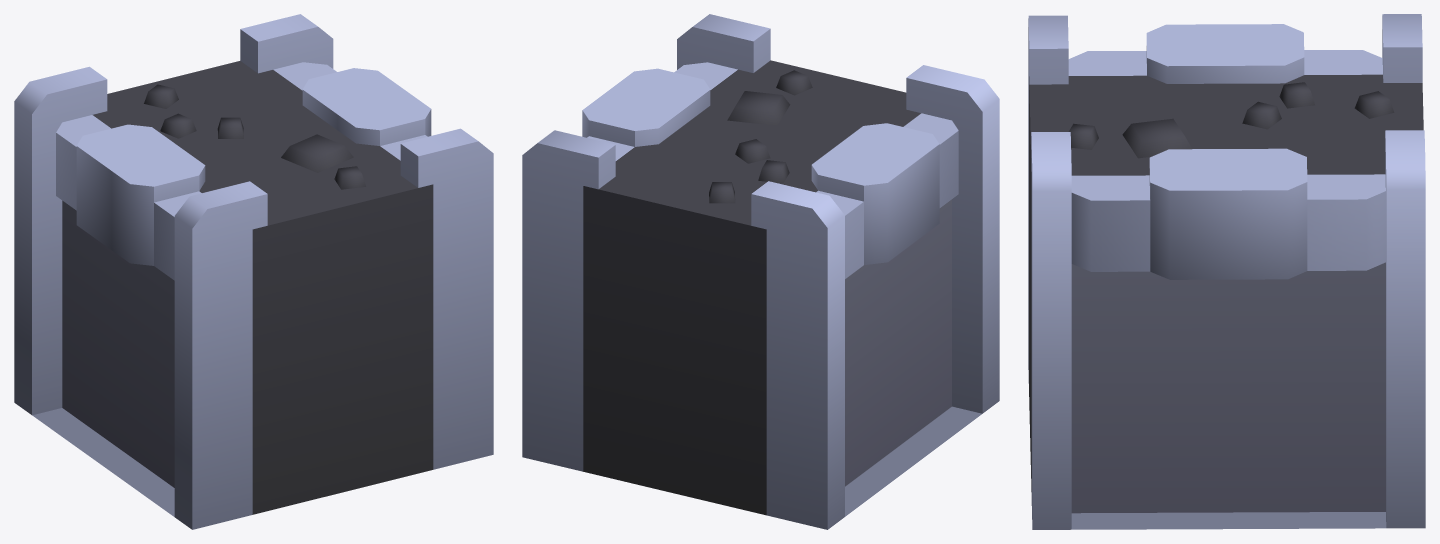
File: wall-narrow.032_lev5.glb
3 renders of one model, left to right at view 1: azimuth 30°, elevation 25°; view 2: azimuth 150°, elevation 25°; view 3: azimuth 270°, elevation 25°, orthographic. The views are drawn at different scales.
Parts seen in each view (by area): view 1: wall-narrow.032_lev5; view 2: wall-narrow.032_lev5; view 3: wall-narrow.032_lev5.
Part boxes in pixels (box(x1,y1,x2,y2)): wall-narrow.032_lev5: box(14, 14, 493, 529); wall-narrow.032_lev5: box(522, 14, 999, 529); wall-narrow.032_lev5: box(1028, 14, 1425, 529).
Size of the model in its own units: 11.06 by 10.95 by 11.06.
1 material, 1 textured.
